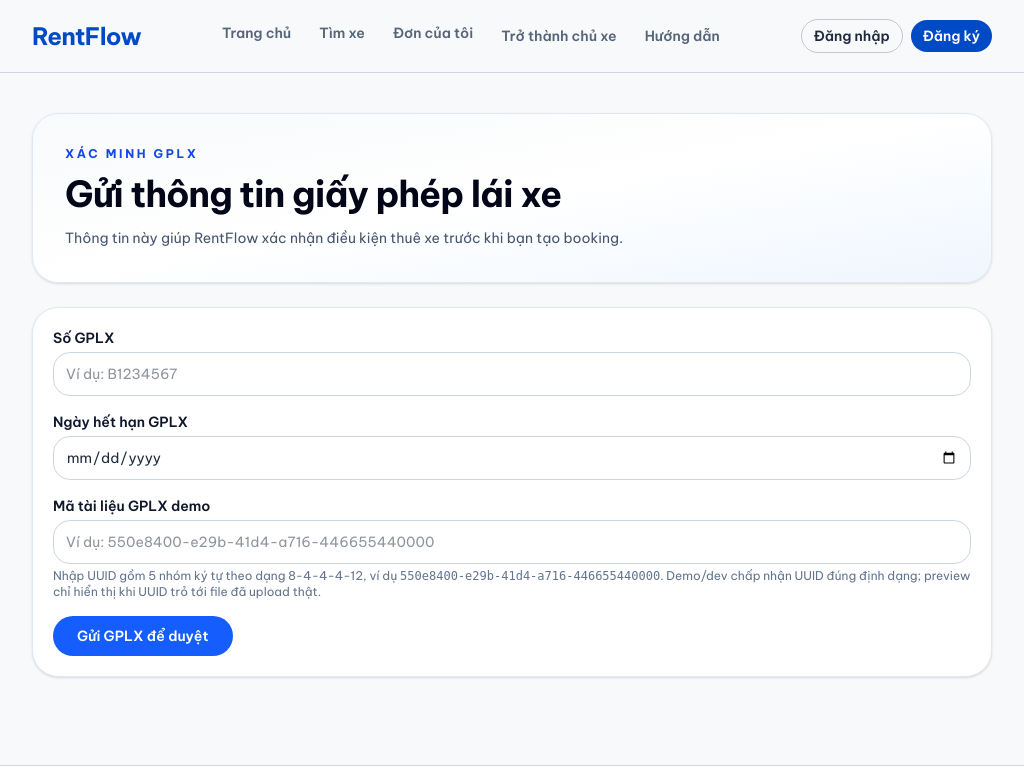
DriverLicensePageView › maps driver-license endpoint 404 to a developer-friendly rewrite message
Type "B1234567" into the field labelled "Số GPLX".
click(512, 374); type("B1234567")  # box [53,352,971,396]
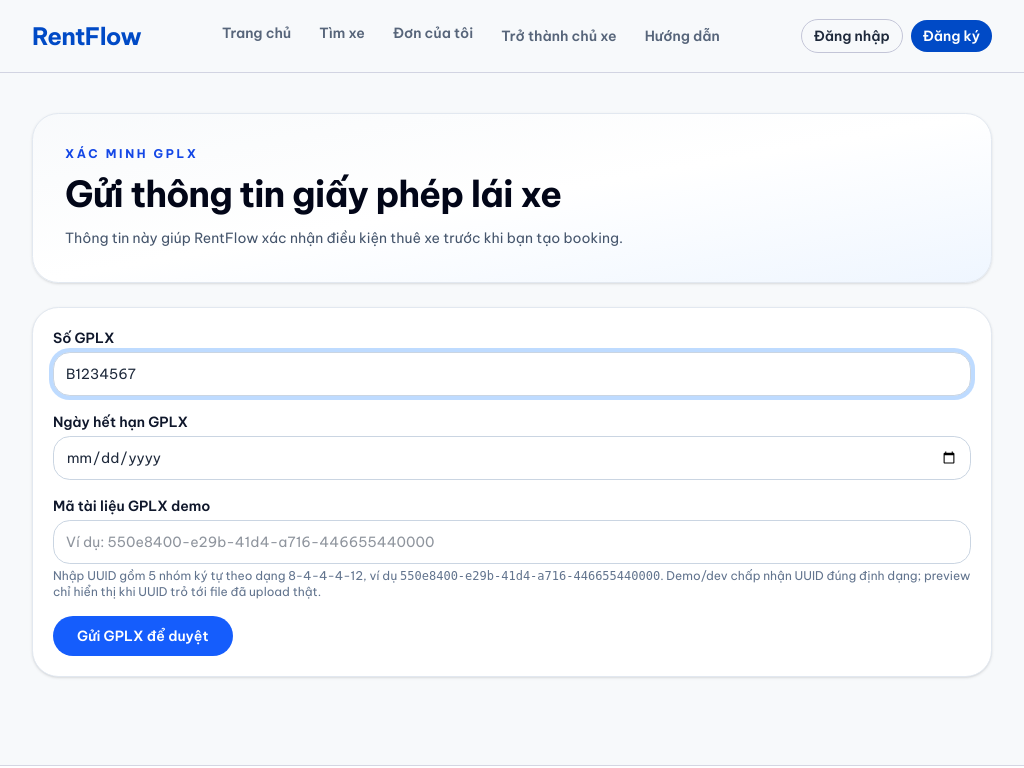
Type "2099-01-01" into the date field labelled "Ngày hết hạn GPLX".
click(512, 458); type("2099-01-01")  # box [53,436,971,480]
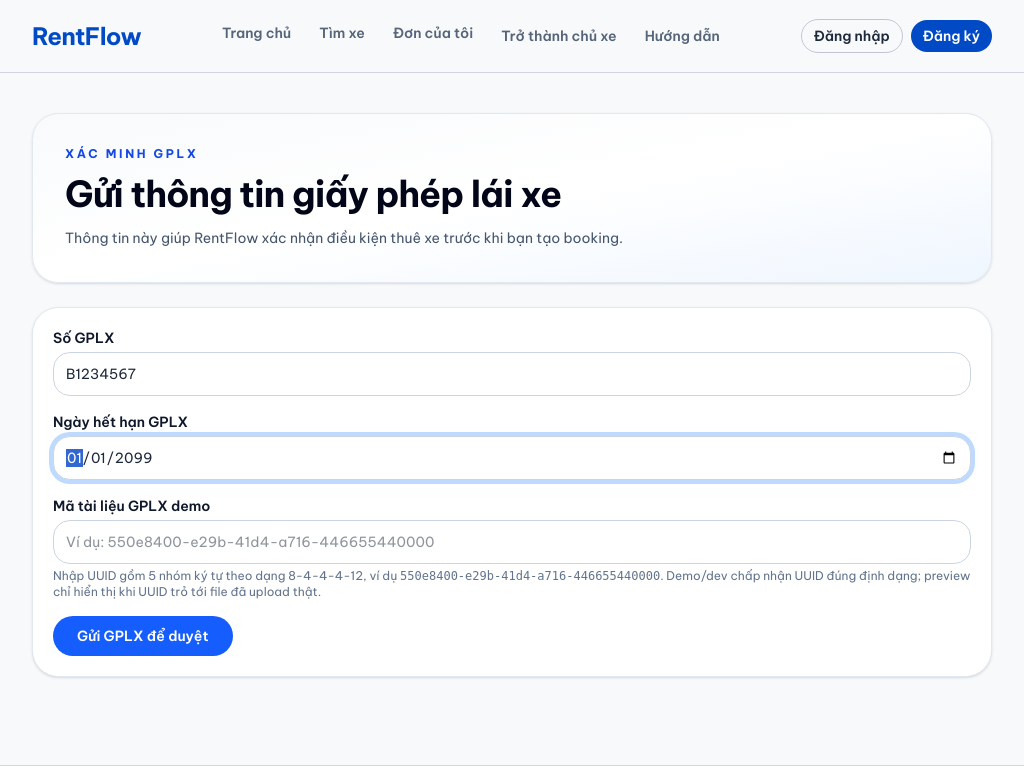
Type "11111111-1111-4111-8111-111111111111" into the field labelled "Mã tài liệu GPLX demo".
click(512, 542); type("11111111-1111-4111-8111-111111111111")  # box [53,520,971,564]
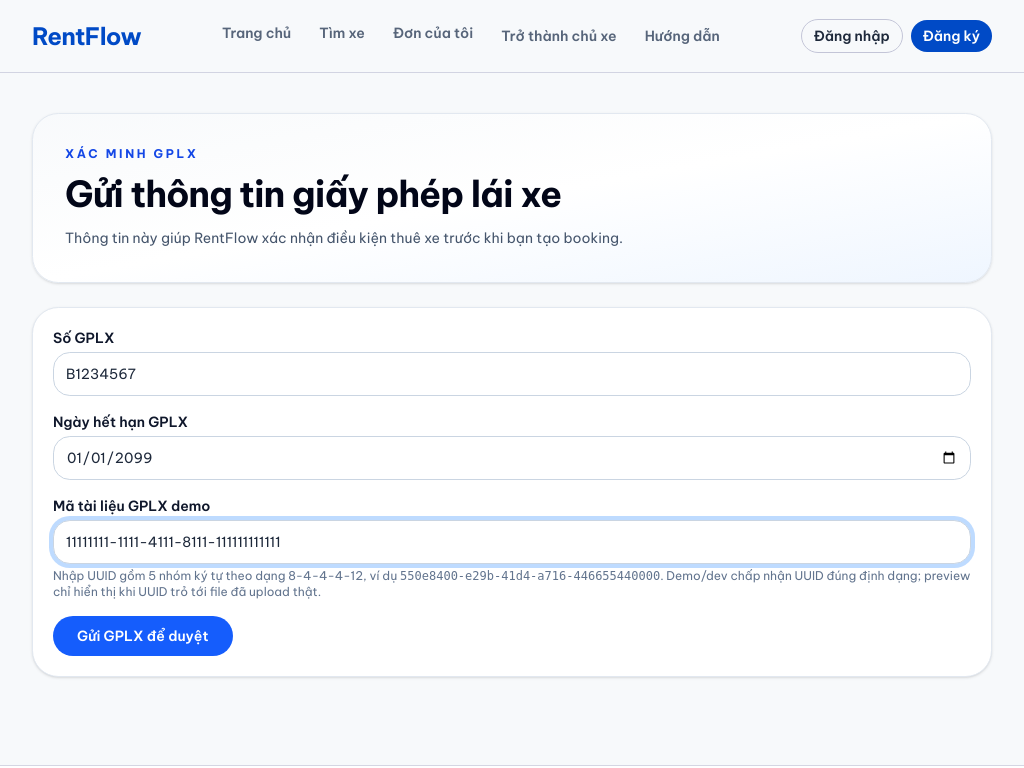
Click the button "Gửi GPLX để duyệt".
click(143, 636)  # box [53,616,232,656]
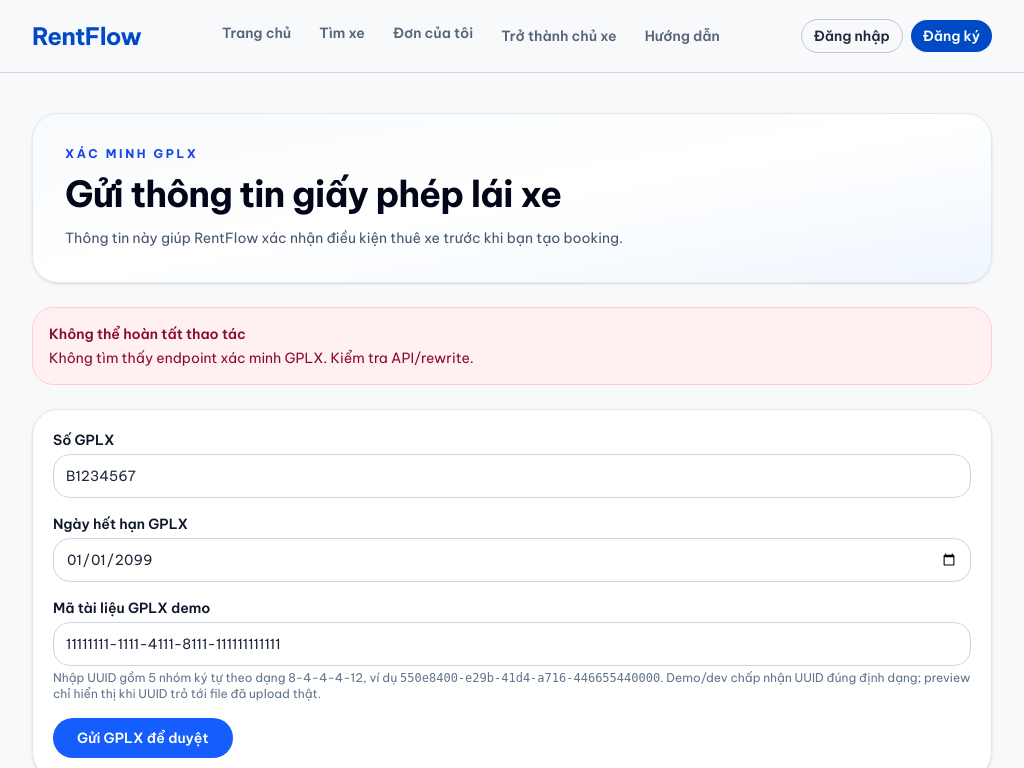
Now the text "Không tìm thấy endpoint xác minh GPLX. Kiểm tra API/rewrite." is shown, box [49,349,474,367]
